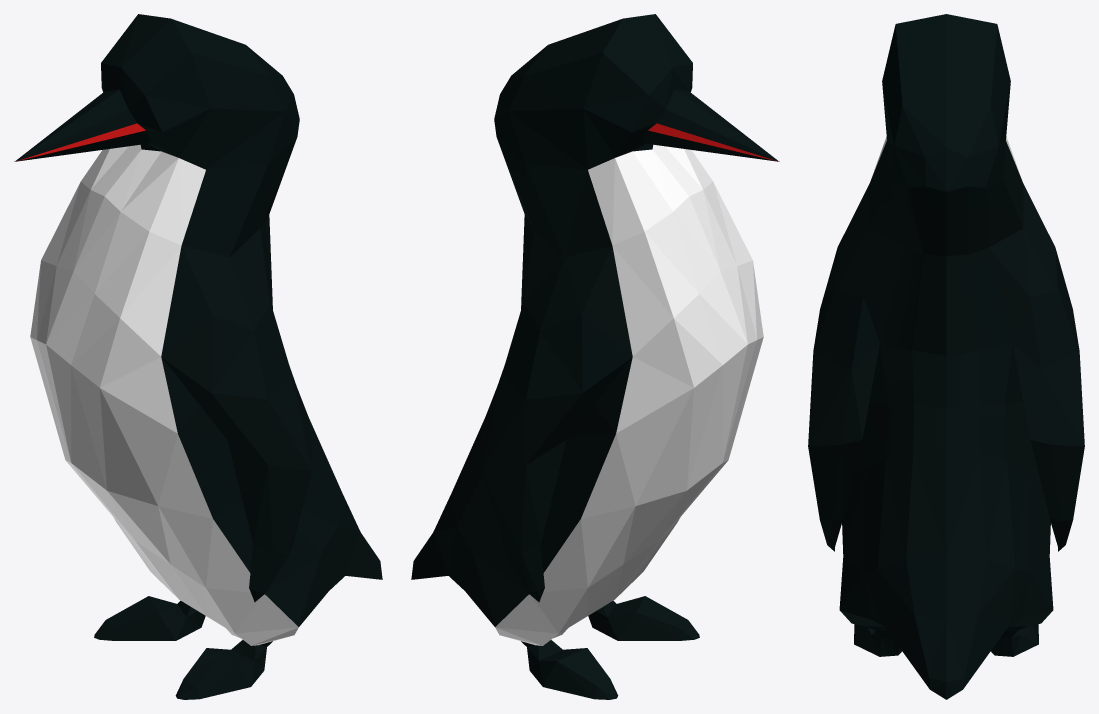
Rendered from chim.fbx.
The picture shows the model from 3 angles, left to right: view 1: azimuth 30°, elevation 25°; view 2: azimuth 150°, elevation 25°; view 3: azimuth 270°, elevation 25°; orthographic projection. The views are drawn at different scales.
Parts seen in each view (by area): view 1: chim; view 2: chim; view 3: chim.
Boxes of the visible parts, bbox=[...] form: chim: bbox=[14, 14, 382, 699]; chim: bbox=[411, 14, 779, 699]; chim: bbox=[808, 14, 1084, 699].
Size of the model in its own units: 93.77 by 156 by 63.68.
